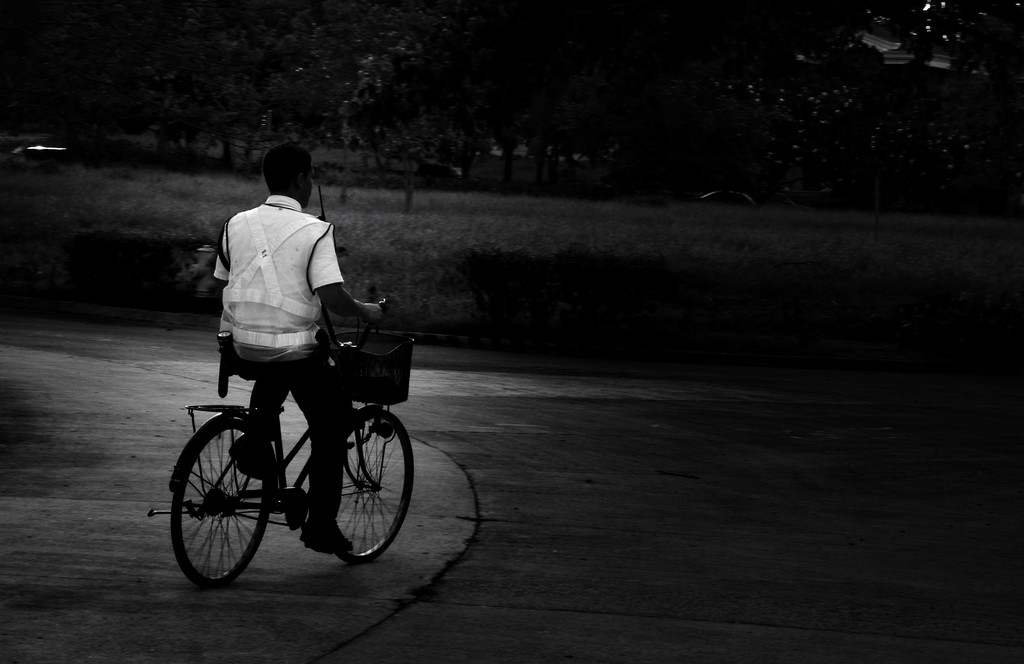Bike_away: (162, 290, 422, 582)
